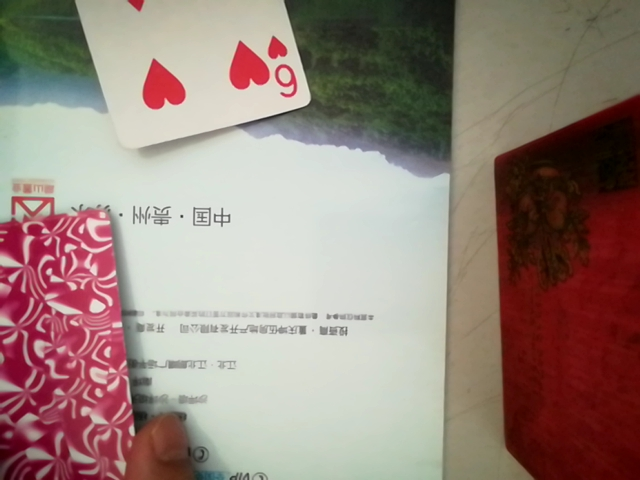hx 6: (66, 0, 312, 150)
